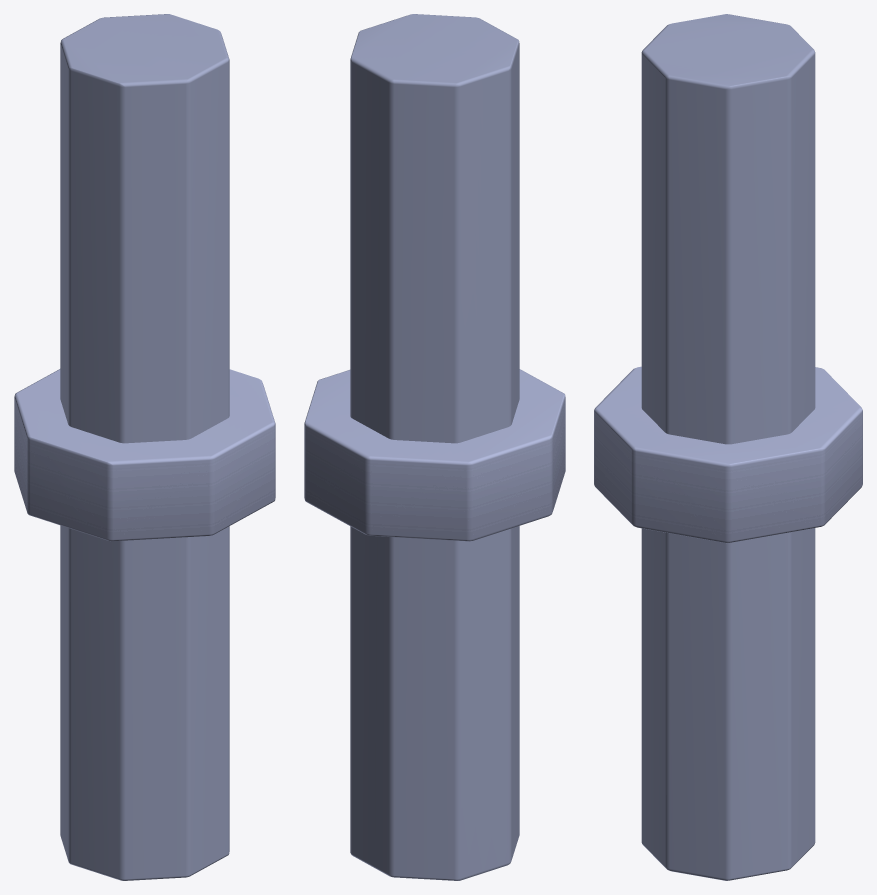
The model's file is gutter-vertical-short.glb.
3 renders of one model, left to right at view 1: azimuth 30°, elevation 25°; view 2: azimuth 150°, elevation 25°; view 3: azimuth 270°, elevation 25°, orthographic.
Visible parts, largest first — view 1: gutter-vertical-short; view 2: gutter-vertical-short; view 3: gutter-vertical-short.
Part boxes in pixels (box(x1,y1,x2,y2)): gutter-vertical-short: box(14, 14, 275, 880); gutter-vertical-short: box(304, 14, 565, 880); gutter-vertical-short: box(594, 14, 862, 880).
Size of the model in its own units: 0.3063 by 1 by 0.3063.
Materials: 1 (1 with a texture image).
